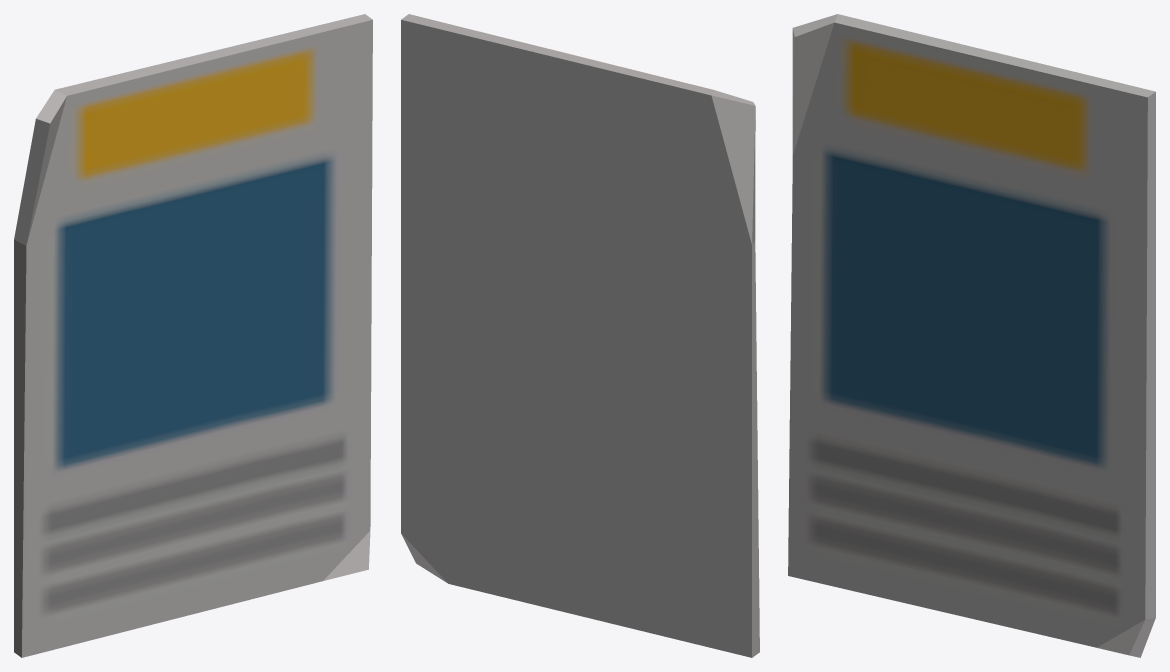
File: SM_Prop_Poster_07_787.obj
The picture shows the model from 3 angles, left to right: view 1: azimuth 30°, elevation 25°; view 2: azimuth 150°, elevation 25°; view 3: azimuth 330°, elevation 25°; orthographic projection. The views are drawn at different scales.
Visible parts, largest first — view 1: SM_Prop_Poster_07_0; view 2: SM_Prop_Poster_07_0; view 3: SM_Prop_Poster_07_0.
Boxes of the visible parts, x1,y1,x2,y2 form: SM_Prop_Poster_07_0: [14, 14, 372, 657]; SM_Prop_Poster_07_0: [401, 14, 759, 657]; SM_Prop_Poster_07_0: [788, 14, 1155, 657].
Bounding box in the file's own units: 0.2587 × 0.389 × 0.0239.
1 material, 1 textured.
